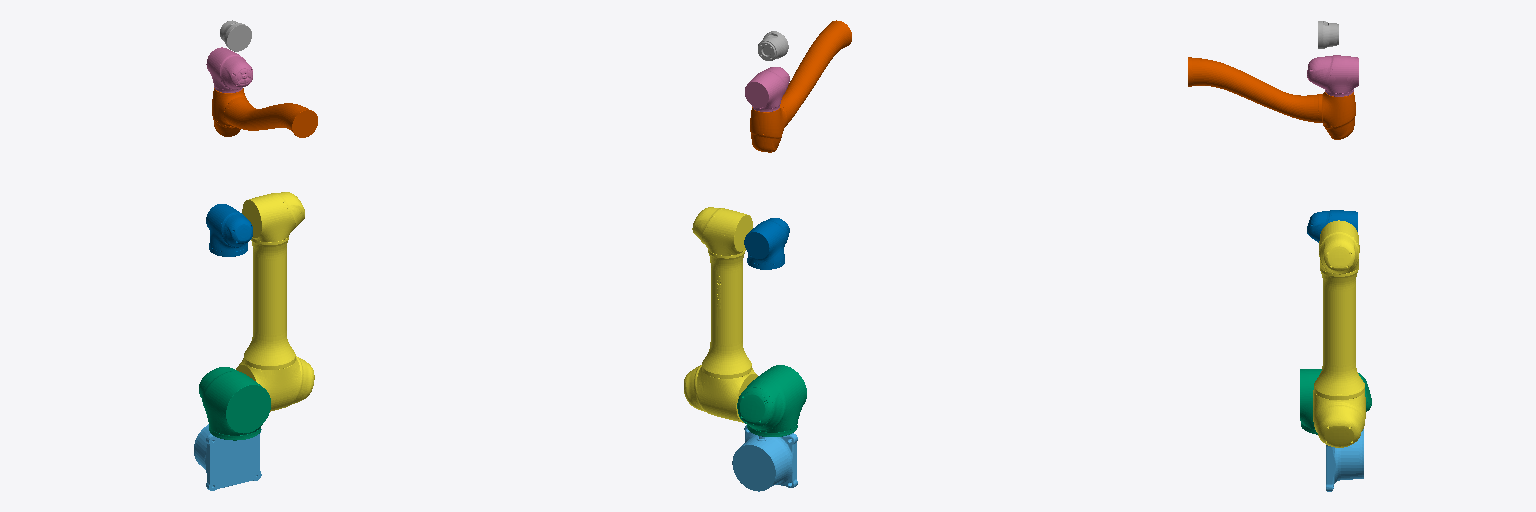
URDF robot description (a0912):
<?xml version="1.0" ?>
<robot name="a0912">
  
  <!-- I change and add info to this file  -->
  <!-- I change the links and joints values in order to match the macro xacro file -->

  <link name="world"/>
  <joint name="world_fixed" type="fixed">
    <origin xyz="0 0 0" rpy="0 0 0"/>
    <parent link="world"/>
    <child link="base_0"/>
  </joint>
  <!-- /////////////////  -->
  
  <!-- Base -->
  <link name="base_0">
    <inertial>
  	  <mass value="3.635"/>
  	  <origin xyz="4e-06 -0.001016 0.08181"/>
      <inertia ixx="0.02216" ixy="5.8001e-06" ixz="6.1941e-06" iyy="0.024835" iyz="-5.3034e-05" izz="0.021063"/>
    </inertial>
    <visual>
      <origin rpy="0 0 0" xyz="0 0 0"/>
      <geometry>
        <mesh name="base_0_viz" filename="A0912_0_0.stl" scale="0.001 0.001 0.001"/>
        </geometry>
    </visual>
    <collision>
      <geometry>
        <mesh name="base_0_col" filename="meshes/A0912_0_0.stl" scale="0.001 0.001 0.001" />
      </geometry>
    </collision>
  </link>


  <!-- joint 1 -->
  <joint name="joint1" type="revolute">
    <parent link="base_0"/>
    <child link="link1"/>
    <origin rpy="0 0 0" xyz="0 0 0.195"/>
    <axis xyz="0 0 1"/>
    <limit effort="411" lower="-6.2832" upper="6.2832" velocity="3.1416"/>
    <dynamics damping="60.0" friction="4.0" />
  </joint>

  <!-- Link 1 -->
  <link name="link1">
  	<inertial>
  	  <mass value="7.863"/>
  	  <origin xyz="4.4e-05    0.029982    -0.01112"/>
      <inertia ixx="0.045839" ixy="1.2759e-05" ixz="-3.6168e-05" iyy="0.032913" iyz="-0.0029965" izz="0.044399"/>
    </inertial>
    <collision>
      <geometry>
          <cylinder name="link1_cy" radius="0.08" length="0.2"/>
      </geometry>
    </collision>  
    <visual>
      <origin rpy="0 0 0" xyz="0 0 0"/>
      <geometry>
        <mesh name="link_1-0_viz" filename="meshes/stl/A0912_1_0.stl" scale="0.001 0.001 0.001"/>
      </geometry>
    </visual>
    <visual>
      <origin rpy="0 0 0" xyz="0 0 0"/>
      <geometry>
        <mesh name="link_1-1_viz" filename="meshes/stl/A0912_1_1.stl" scale="0.001 0.001 0.001"/>
      </geometry>
    </visual>
    <visual>
      <origin rpy="0 0 0" xyz="0 0 0"/>
      <geometry>
        <mesh name="link_1-2_viz" filename="meshes/stl/A0912_1_2.stl" scale="0.001 0.001 0.001"/>
      </geometry>
    </visual>
  </link>
  

  <!-- joint2 -->
  <joint name="joint2" type="revolute">
    <parent link="link1"/>
    <child link="link2"/>
    <origin rpy="0 -1.571 -1.571" xyz="0 0.039 0"/>
    <axis xyz="0 0 1"/>
    <limit effort="411" lower="-6.2832" upper="6.2832" velocity="3.1416"/>
    <dynamics damping="50.0" friction="3.0" />  
  </joint>


  <!-- Link 2 -->
  <link name="link2">
    <inertial>
      <mass value="10.985"/>
      <origin xyz="0.19748    0.001426     0.13191"/>
      <inertia ixx="0.04446" ixy="-0.0049948" ixz="-0.010992" iyy="0.67642" iyz="-2.8483e-05" izz="0.67428"/>
    </inertial>
    <collision>
      <origin rpy="0 -1.571 0" xyz="0.3 0 0.1525" />
      <geometry>
          <cylinder name="link2_cy" radius="0.08" length="0.6"/>
      </geometry>
    </collision>
    <visual>
      <origin rpy="0 0 0" xyz="0 0 0"/>
      <geometry>
        <mesh name="link_2-0_viz" filename="meshes/stl/A0912_2_0.stl" scale="0.001 0.001 0.001"/>
      </geometry>
    </visual>
    <visual>
      <origin rpy="0 0 0" xyz="0 0 0"/>
      <geometry>     
  	    <mesh name="link_2-1_viz" filename="meshes/stl/A0912_2_1.stl" scale="0.001 0.001 0.001"/>
      </geometry>
    </visual>
    <visual>
      <origin rpy="0 0 0" xyz="0 0 0"/>
      <geometry>     
  	    <mesh name="link_2-2_viz" filename="meshes/stl/A0912_2_2.stl" scale="0.001 0.001 0.001"/>
      </geometry>
    </visual>	
  </link>


  <!-- joint3 -->
  <joint name="joint3" type="revolute">
    <parent link="link2"/>
    <child link="link3"/>
    <origin rpy="0 0 1.571" xyz="0.56 0 0"/>
    <axis xyz="0 0 1"/>
    <limit effort="194" lower="-2.7925" upper="2.7925" velocity="3.1416"/>
    <dynamics damping="40.0" friction="2.0"/>
  </joint>
  
  <!-- Link 3 -->
  <link name="link3">
  	<inertial>
  	  <mass value="2.881"/>
  	  <origin xyz="8.5e-05   -0.002513    0.032058"/>
      <inertia ixx="0.012756" ixy="-5.4257e-06" ixz="1.6402e-05" iyy="0.011416" iyz="-0.0001989" izz="0.0080652"/>
    </inertial>
    <visual>
      <origin rpy="0 0 0" xyz="0 0 0"/>
      <geometry>     
  		  <mesh name="link_3-0_viz" filename="meshes/stl/A0912_3_0.stl" scale="0.001 0.001 0.001"/>
      </geometry>
    </visual>
    <visual>
      <origin rpy="0 0 0" xyz="0 0 0"/>
      <geometry>     
  		  <mesh name="link_3-1_viz" filename="meshes/stl/A0912_3_1.stl" scale="0.001 0.001 0.001"/>
      </geometry>
    </visual>
  </link>

  <!-- joint4 -->
  <joint name="joint4" type="revolute">
    <parent link="link3"/>
    <child link="link4"/>
    <origin rpy="1.571 0 0" xyz="0 -0.516 0"/>
    <axis xyz="0 0 1"/>
    <limit effort="50" lower="-6.2832" upper="6.2832" velocity="6.2832"/>
    <dynamics damping="20.0" friction="1.0" />
  </joint>
  

  <!-- Link 4 -->
  <link name="link4">
  	<inertial>
  	  <mass value="3.273"/>
  	  <origin xyz="-9.6e-05    0.085314    -0.13975"/>
      <inertia ixx="0.12246" ixy="2.3905e-05" ixz="2.5022e-05" iyy="0.11307" iyz="-0.027995" izz="0.017186"/>
    </inertial>
    <collision>
      <origin rpy="-0.46 0 0" xyz="0 0.075 -0.2" />
      <geometry>
        <cylinder name="link4_cy" radius="0.05" length="0.4"/>
      </geometry>
    </collision>  
    <visual>
      <origin rpy="0 0 0" xyz="0 0 0"/>
      <geometry>     
  		  <mesh name="link_4-0_viz" filename="meshes/stl/A0912_4_0.stl" scale="0.001 0.001 0.001"/>
      </geometry>
    </visual>
    <visual>
      <origin rpy="0 0 0" xyz="0 0 0"/>
      <geometry>     
  		  <mesh name="link_4-1_viz" filename="meshes/stl/A0912_4_1.stl" scale="0.001 0.001 0.001"/>
      </geometry>
    </visual>
  </link>

  <!-- joint5 -->
  <joint name="joint5" type="revolute">
    <parent link="link4"/>
    <child link="link5"/>
    <origin rpy="-1.571 0 0" xyz="0 0 0"/>
    <axis xyz="0 0 1"/>
    <limit effort="50" lower="-6.2832" upper="6.2832" velocity="6.2832"/>
    <dynamics damping="10.0" friction="1.0" />
  </joint>
  
  <!-- Link 5 -->

  <link name="link5">
  	<inertial>
  	  <mass value="2.141"/>
  	  <origin xyz="0.000109   -0.003286     0.01477"/>
      <inertia ixx="0.013145" ixy="-4.7132e-06" ixz="8.5804e-06" iyy="0.0073072" iyz="-5.999e-05" izz="0.0090476"/>
    </inertial>
    <collision>
      <origin rpy="1.571 0 0" xyz="0 0 0" />
      <geometry>
        <cylinder name="link5_cy" radius="0.06" length="0.15"/>
      </geometry>
    </collision>
    <visual>
      <origin rpy="0 0 0" xyz="0 0 0"/>
      <geometry>     
  	    <mesh name="link_5-0_viz" filename="meshes/stl/A0912_5_0.stl" scale="0.001 0.001 0.001"/>
      </geometry>
    </visual>
    <visual>
      <origin rpy="0 0 0" xyz="0 0 0"/>
      <geometry>     
  	    <mesh name="link_5-1_viz" filename="meshes/stl/A0912_5_1.stl" scale="0.001 0.001 0.001"/>
      </geometry>
    </visual>
  </link>


  <!-- Joint6 -->

  <joint name="joint6" type="revolute">
    <parent link="link5"/>
    <child link="link6"/>
    <origin rpy="1.571 0 0" xyz="0 -0.124 0"/>
    <axis xyz="0 0 1"/>
    <limit effort="50" lower="-6.2832" upper="6.2832" velocity="6.2832"/>
    <dynamics damping="10.0" friction="1.0" />
  </joint>
  
  <!-- Link 6 -->

  <link name="link6">
  	<inertial>
  	  <mass value="0.784"/>
  	  <origin xyz="-1.9e-05      -6e-06    -0.05227"/>
      <inertia ixx="0.0067403" ixy="5.2373e-06" ixz="2.4957e-06" iyy="0.0048015" iyz="8.3671e-06" izz="0.0059696"/>
    </inertial>
    <visual>
      <origin rpy="0 0 0" xyz="0 0 0"/>
      <geometry>     
  		  <mesh name="link_6-0_viz" filename="meshes/stl/A0912_6_0.stl" scale="0.001 0.001 0.001"/>
      </geometry>
    </visual>
    <collision>
      <geometry>
        <mesh name="link_6-1_viz" filename="meshes/stl/A0912_6_0.stl" scale="0.001 0.001 0.001" />
      </geometry>
    </collision>
  </link>
  
</robot>

--- What the picture shows (computed from the rendered views, not written in the file) ---
3 views of the same robot in one strip: view 1: azimuth 30°, elevation 25°; view 2: azimuth 150°, elevation 25°; view 3: azimuth 270°, elevation 25° (orthographic).
Robot: a0912 — 8 links, 7 joints (6 revolute, 1 fixed); root link world; default pose: every joint at zero.
Links seen in each view (by area): view 1: link2, link1, link4, base_0, link3, link5, link6; view 2: link2, link4, link1, base_0, link3, link5, link6; view 3: link2, link4, link5, base_0, link1, link3, link6.
Link boxes in pixels (box(x1,y1,x2,y2)): link2: box(236, 192, 314, 411); link1: box(199, 367, 270, 440); link4: box(212, 88, 317, 137); base_0: box(194, 424, 261, 490); link3: box(206, 204, 252, 256); link5: box(206, 47, 252, 92); link6: box(220, 20, 251, 51); link2: box(684, 207, 757, 422); link4: box(750, 20, 851, 152); link1: box(737, 365, 806, 436); base_0: box(732, 425, 797, 491); link3: box(744, 218, 789, 269); link5: box(745, 67, 789, 111); link6: box(758, 31, 788, 60); link2: box(1313, 220, 1365, 447); link4: box(1188, 57, 1355, 139); link5: box(1307, 55, 1358, 96); base_0: box(1326, 429, 1363, 491); link1: box(1300, 369, 1371, 434); link3: box(1307, 210, 1357, 242); link6: box(1318, 21, 1338, 48).
Size in the robot's own frame: 0.37 by 0.5556 by 1.53 metres.
14 mesh visuals loaded from 14 distinct referenced files (14 binary STL).
